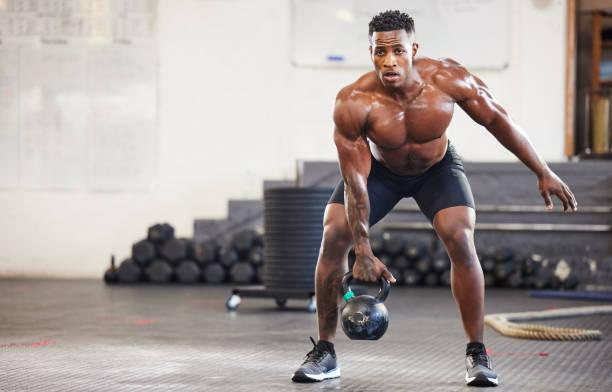Pessoa: (293, 11, 576, 385)
